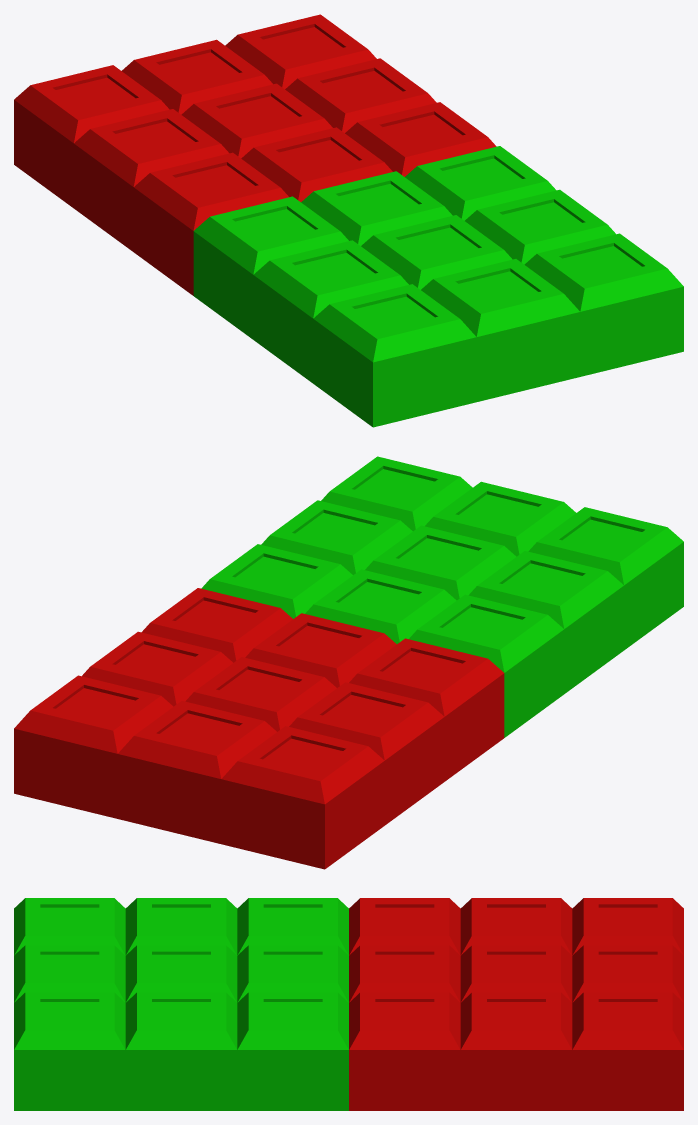
The model's file is Scenario.fbx.
The picture shows the model from 3 angles, top to bottom: view 1: azimuth 30°, elevation 25°; view 2: azimuth 150°, elevation 25°; view 3: azimuth 270°, elevation 25°; orthographic projection. The views are drawn at different scales.
Visible parts, largest first — view 1: Scenario; view 2: Scenario; view 3: Scenario.
Part boxes in pixels (<box>): Scenario: <box>14,14,683,427</box>; Scenario: <box>14,456,683,869</box>; Scenario: <box>14,898,683,1110</box>.
Size of the model in its own units: 1000 by 250 by 2000.
